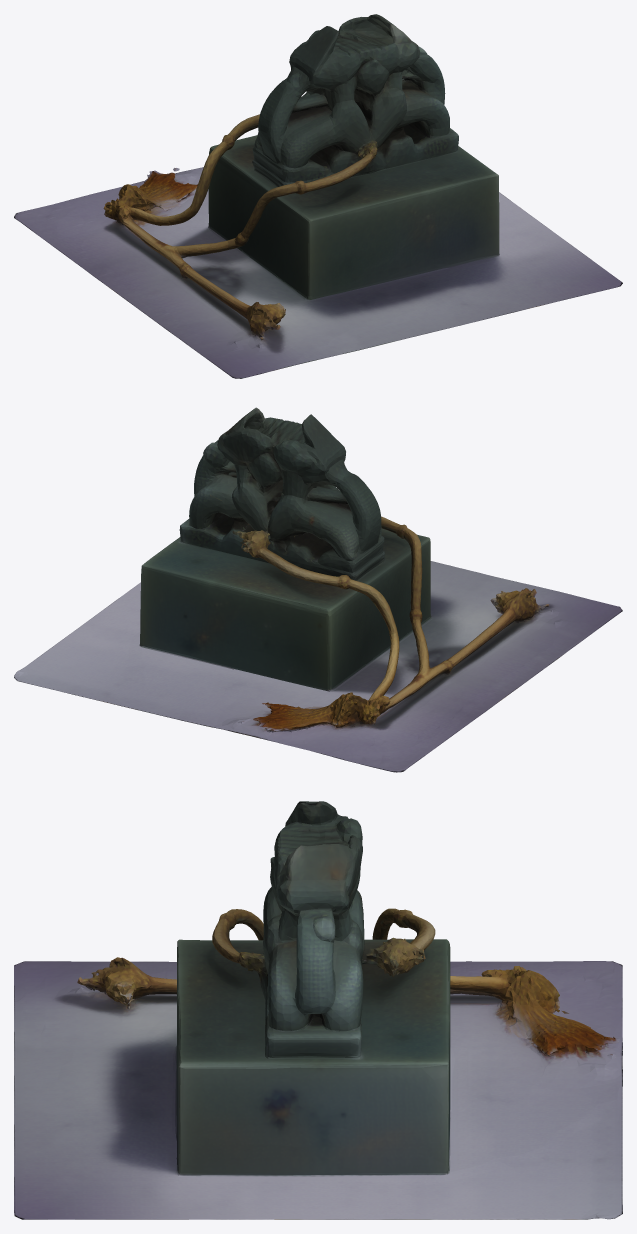
Rendered from 青玉交龙纽“救正万邦之宝”（二十五宝之一）.glb.
3 views of the same model, one above another, from view 1: azimuth 30°, elevation 25°; view 2: azimuth 150°, elevation 25°; view 3: azimuth 270°, elevation 25° (orthographic). The views are drawn at different scales.
Parts seen in each view (by area): view 1: world; view 2: world; view 3: world.
Boxes of the visible parts, <box> form: world: <box>14,14,622,378</box>; world: <box>14,407,622,772</box>; world: <box>14,801,622,1219</box>.
Bounding box in the file's own units: 1 × 0.541 × 1.
Materials: 1 (1 with a texture image).
